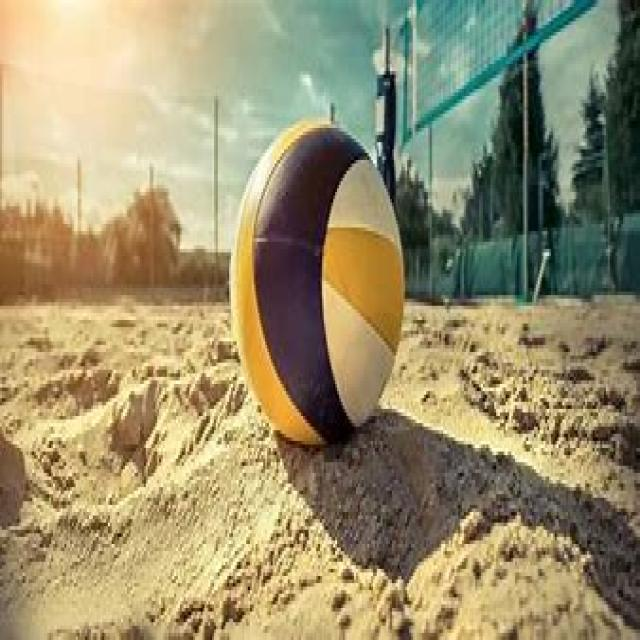Volleyball: (229, 118, 406, 452)
